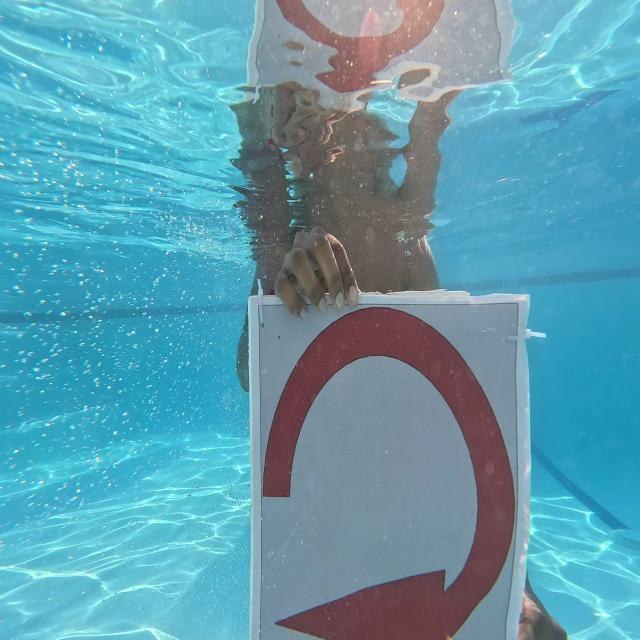red_side: (252, 303, 518, 640)
